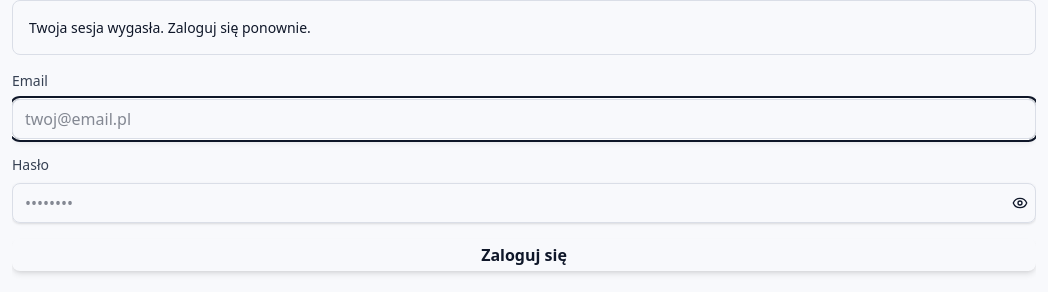
Scenario: LoginForm › Session Expired Message › should prioritize general error over session expired message
Type "test@example.com" into the field labelled "Email" at (524, 119), box top-left (12, 99), bottom-right (1036, 139)
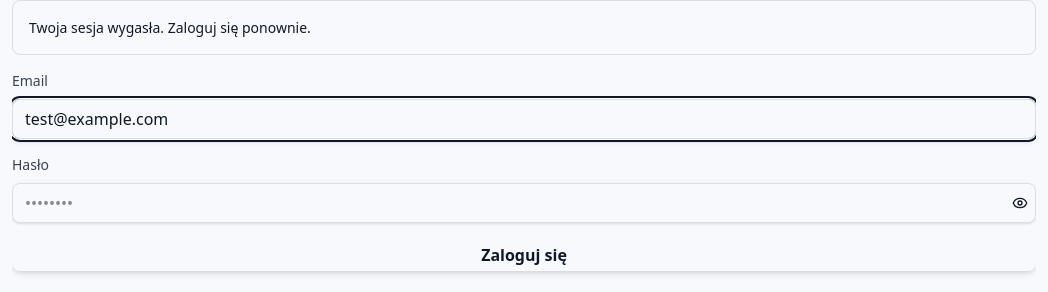
Type "wrongpassword" into the password field labelled "Hasło" at (524, 203), box top-left (12, 183), bottom-right (1036, 223)
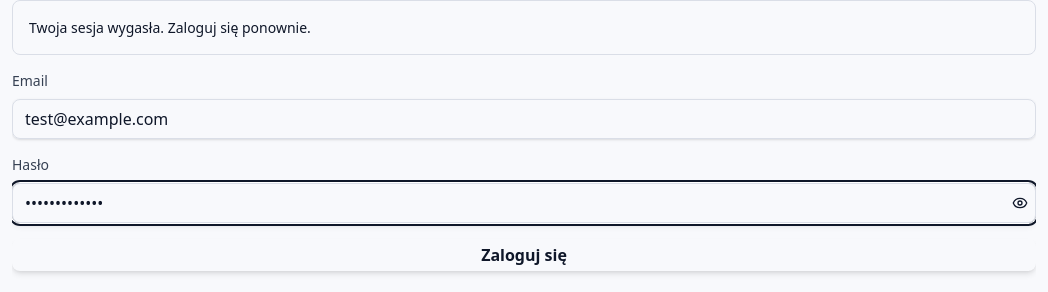
Click the button "Zaloguj się" at (524, 255), box top-left (12, 239), bottom-right (1036, 271)
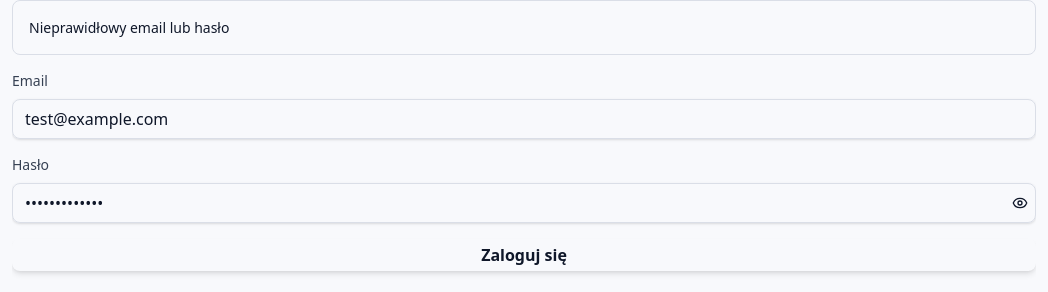
Result: the text "Nieprawidłowy email lub hasło" is shown at top-left (29, 18), bottom-right (229, 37)
Result: the text "Twoja sesja wygasła. Zaloguj się ponownie." is gone
